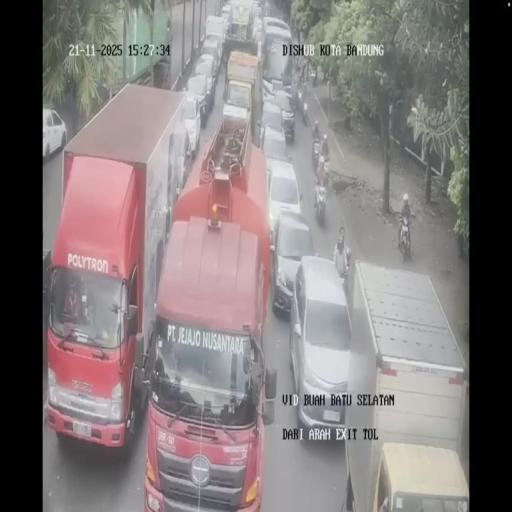car: (290, 258, 350, 437), (264, 156, 301, 246), (266, 86, 295, 144), (262, 16, 292, 52), (202, 30, 224, 72), (295, 70, 310, 122), (251, 14, 263, 46)
motorcycle: (397, 213, 415, 264), (315, 184, 328, 224), (318, 157, 330, 191), (311, 136, 322, 171)
truck: (46, 81, 194, 453), (336, 260, 468, 510)
